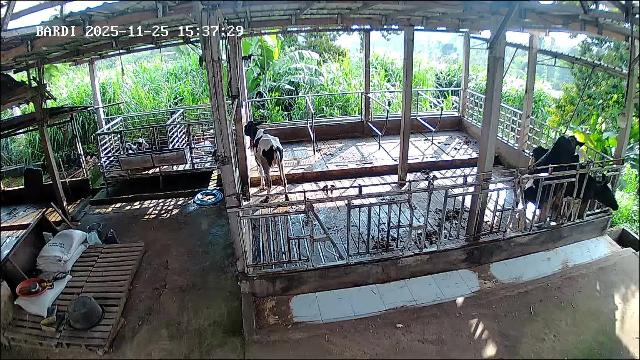mounting: (512, 132, 584, 226)
